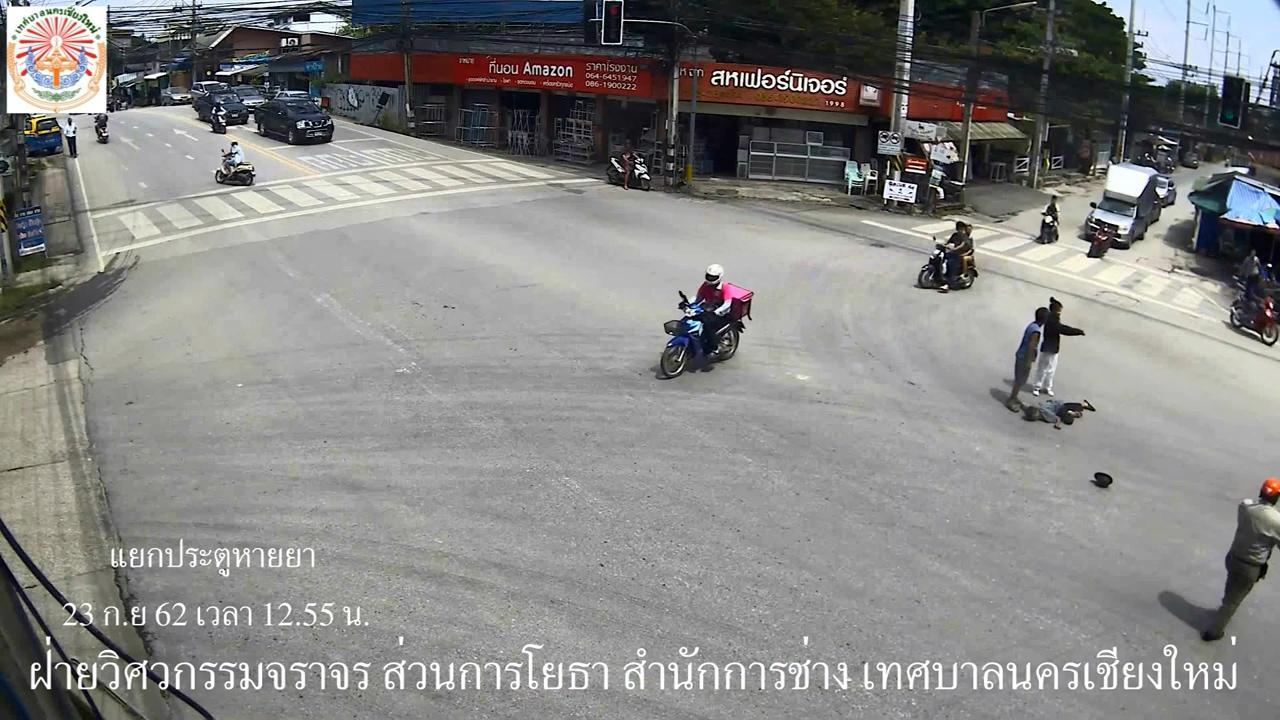accident: (1014, 396, 1097, 432)
